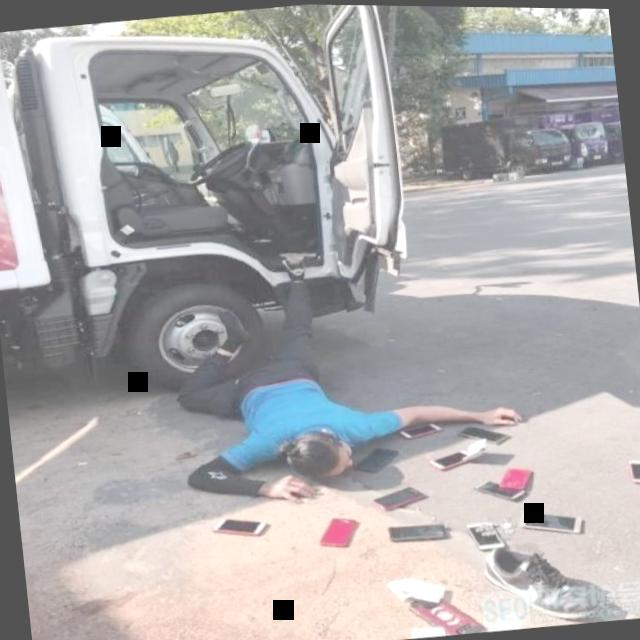Fall-Detected: (133, 242, 535, 522)
